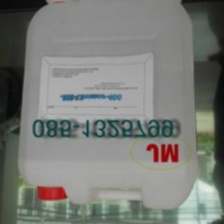cleaning_solution: (15, 0, 199, 212)
